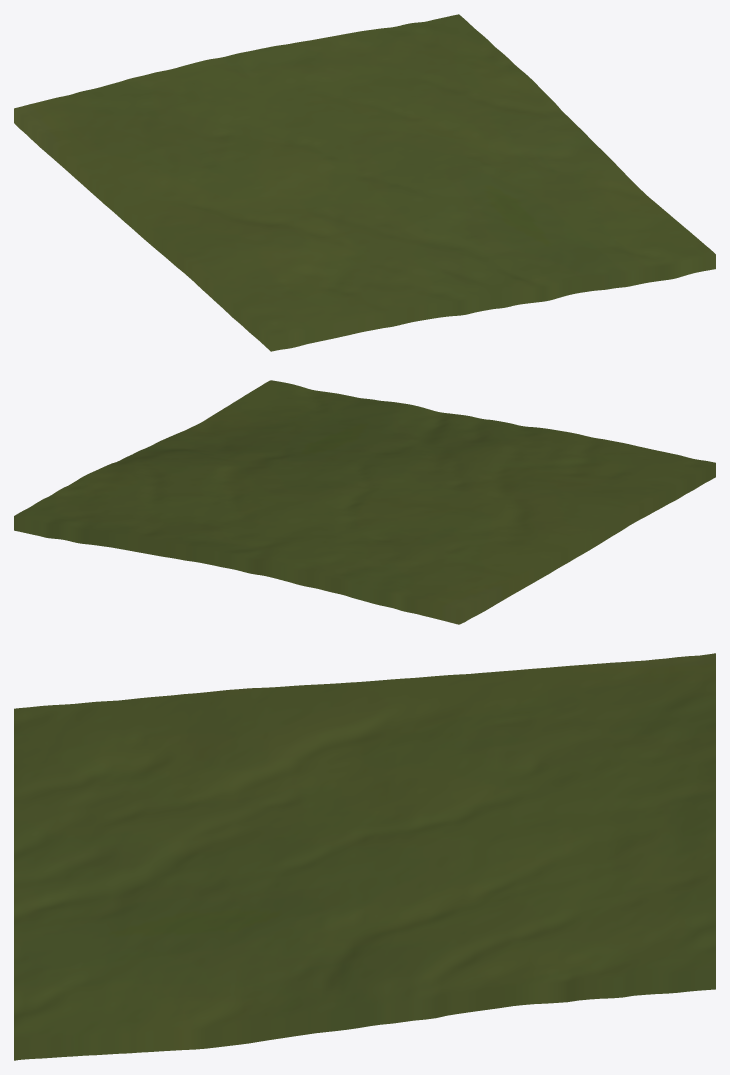
File: terrain_0_-3.glb
3 renders of one model, top to bottom at view 1: azimuth 30°, elevation 25°; view 2: azimuth 150°, elevation 25°; view 3: azimuth 270°, elevation 25°, orthographic. The views are drawn at different scales.
Parts seen in each view (by area): view 1: terrain_0_-3; view 2: terrain_0_-3; view 3: terrain_0_-3.
Part boxes in pixels (<box>): terrain_0_-3: <box>14,14,715,351</box>; terrain_0_-3: <box>14,380,715,624</box>; terrain_0_-3: <box>14,653,715,1060</box>.
Bounding box in the file's own units: 256 × 45.45 × 256.
